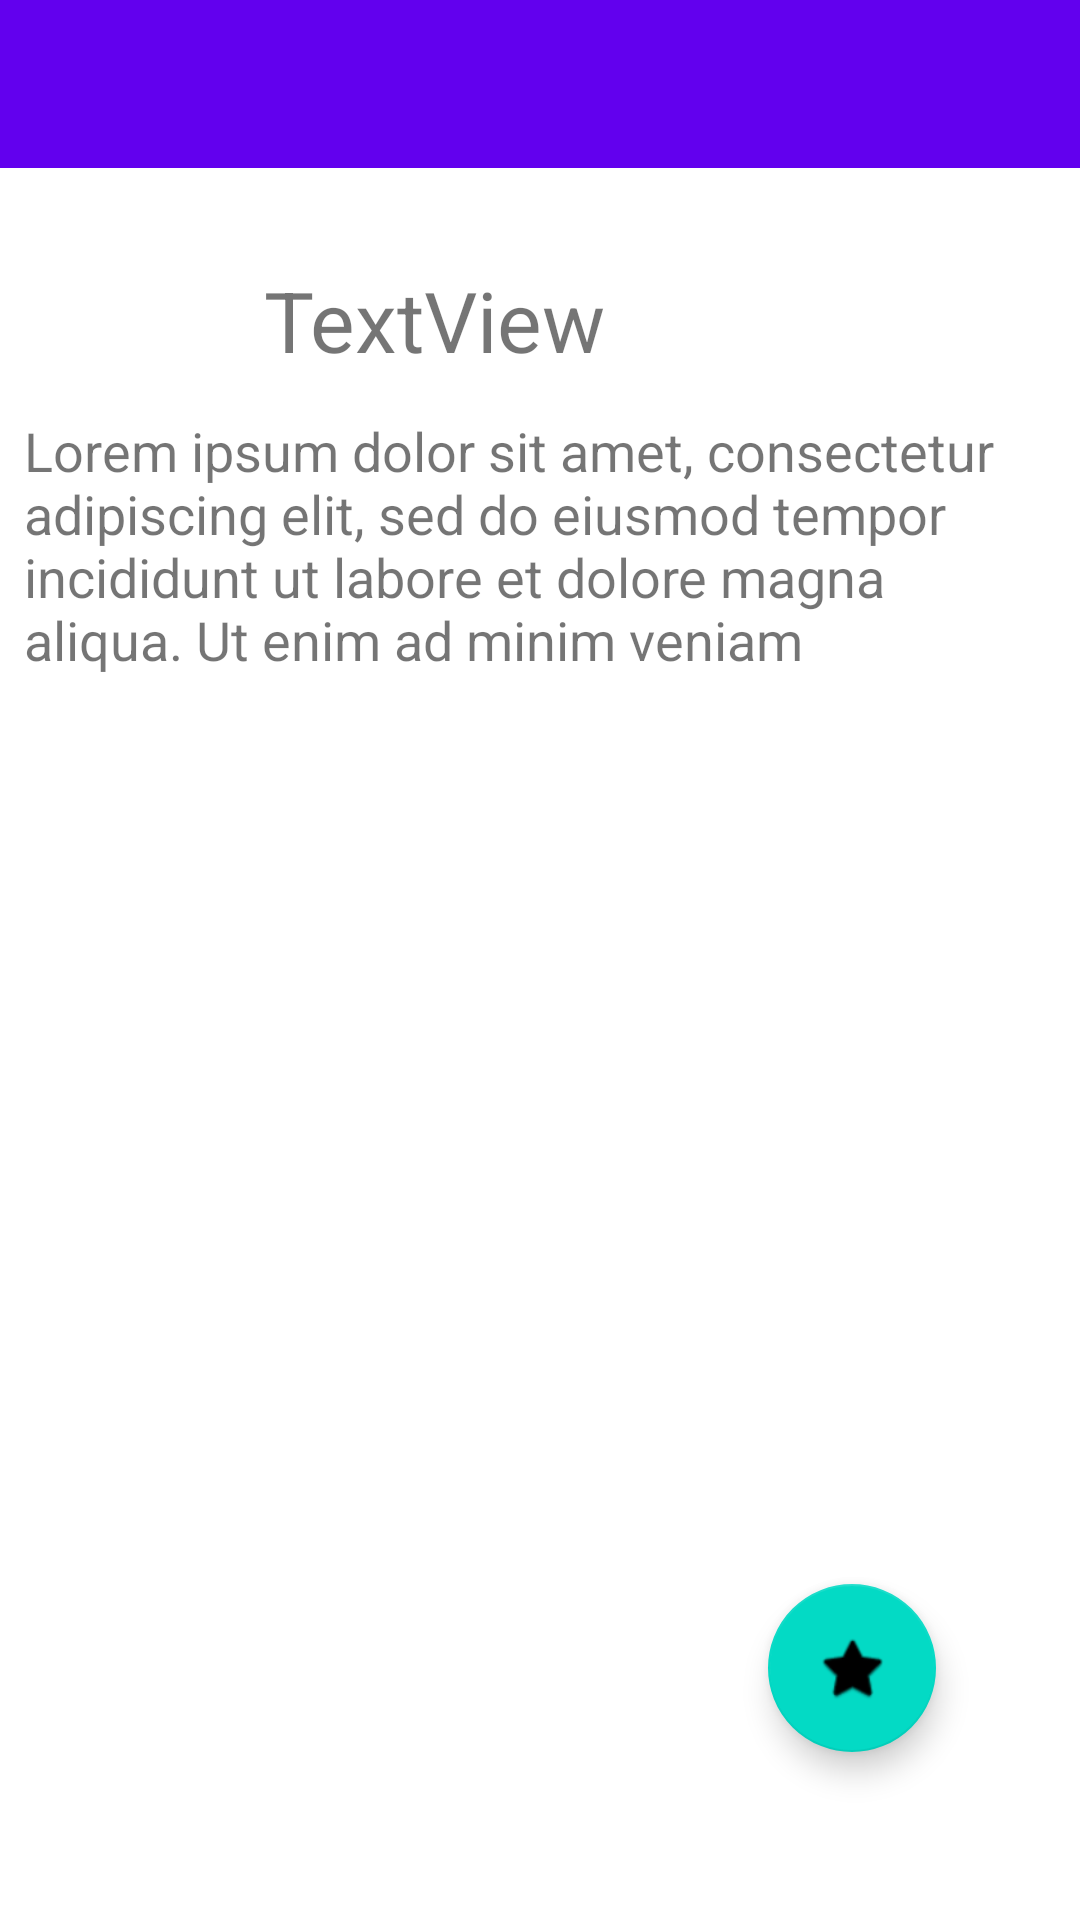

Where to tap for icons on this 1080px×1920px app screen, as (x,y):
star: (852,1668)
